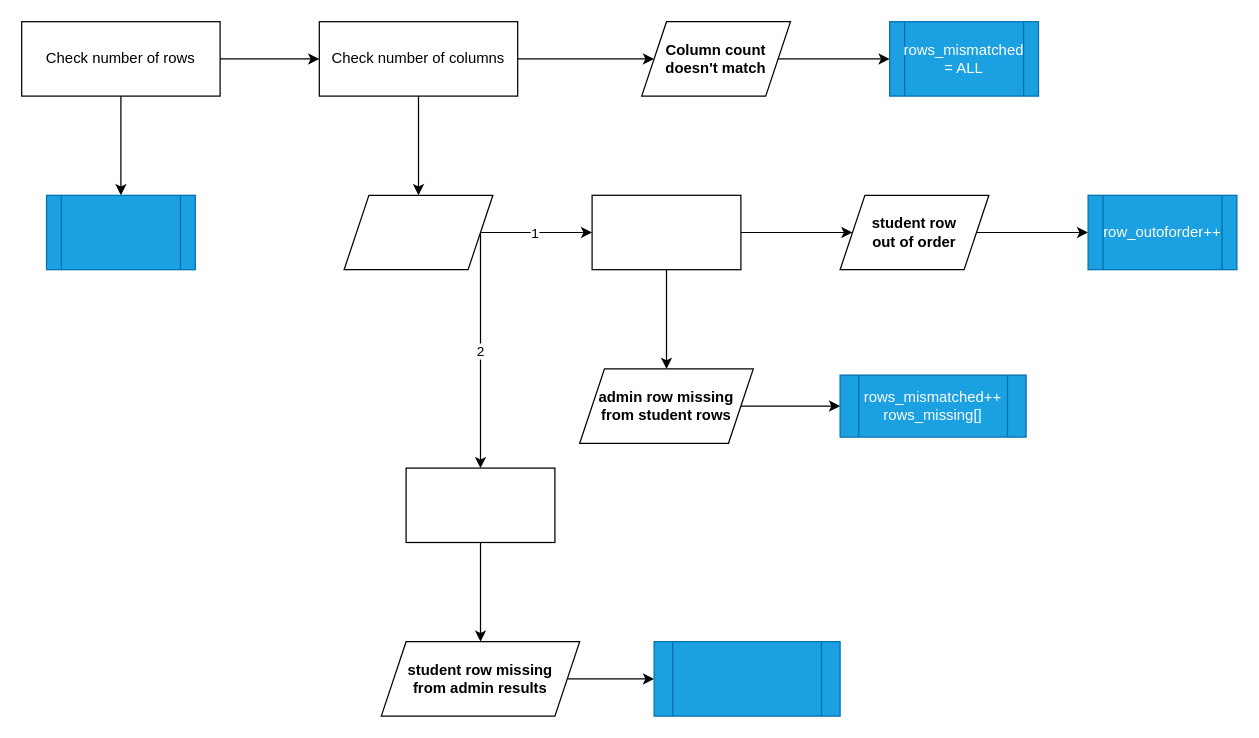
The diagram is 1259 pixels wide and 738 high, and some of its shapes have lost their labels. The shapes that lost their labels are listed below. From the top down, each one's centre as x and y in pixels, then its label:
At pixel 120 232: "length_difference".
At pixel 418 232: "Column count matches".
At pixel 666 232: "for every row in admin results".
At pixel 480 504: "for every row in student results".
At pixel 746 678: "rows_mismatched++ extra_rows[]".
